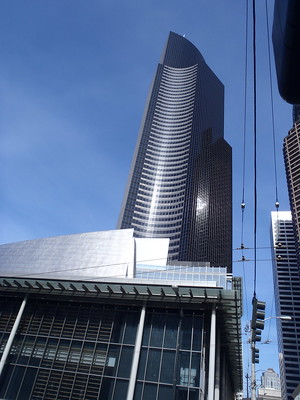low: (113, 26, 237, 294)
